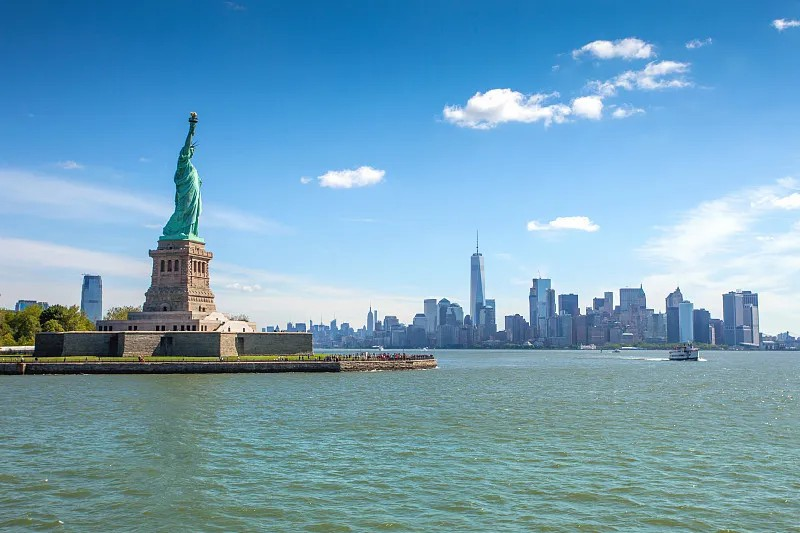SL: (143, 110, 216, 313)
